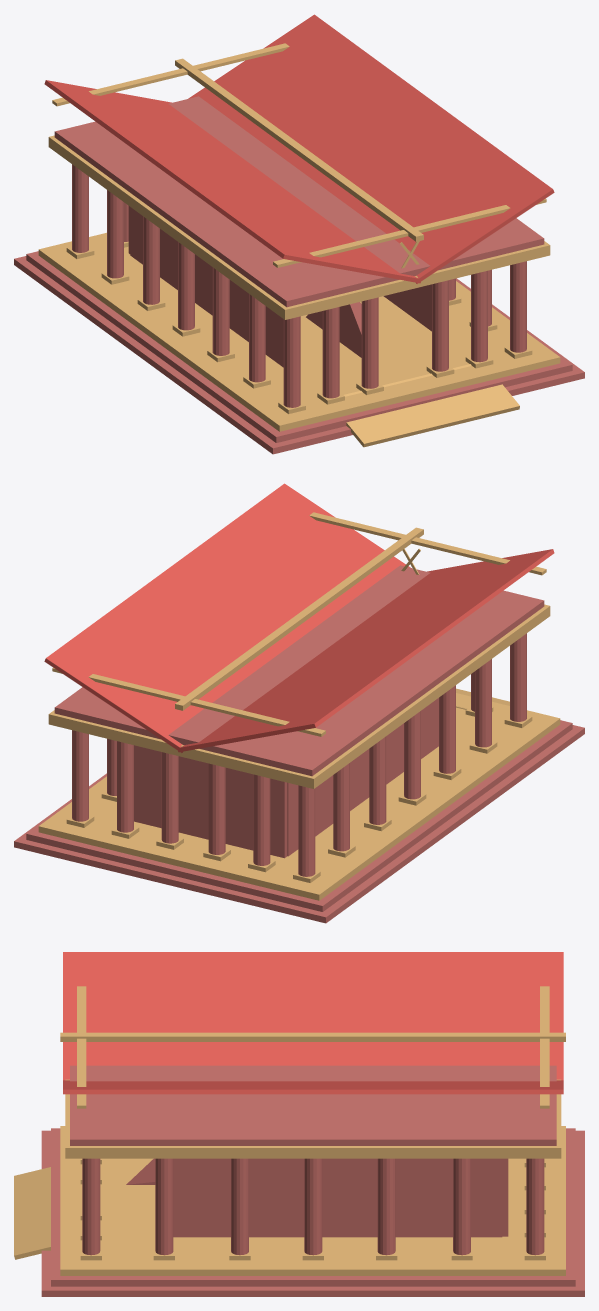
The model's file is temple_ares.glb.
The picture shows the model from 3 angles, top to bottom: view 1: azimuth 30°, elevation 25°; view 2: azimuth 150°, elevation 25°; view 3: azimuth 270°, elevation 25°; orthographic projection. The views are drawn at different scales.
Visible parts, largest first — view 1: Temple_Ares; view 2: Temple_Ares; view 3: Temple_Ares.
Part boxes in pixels (x1,y1,x2,y2): Temple_Ares: [14, 14, 584, 454]; Temple_Ares: [14, 483, 584, 923]; Temple_Ares: [14, 952, 584, 1296].
Size of the model in its own units: 16 by 9.3 by 24.17.
